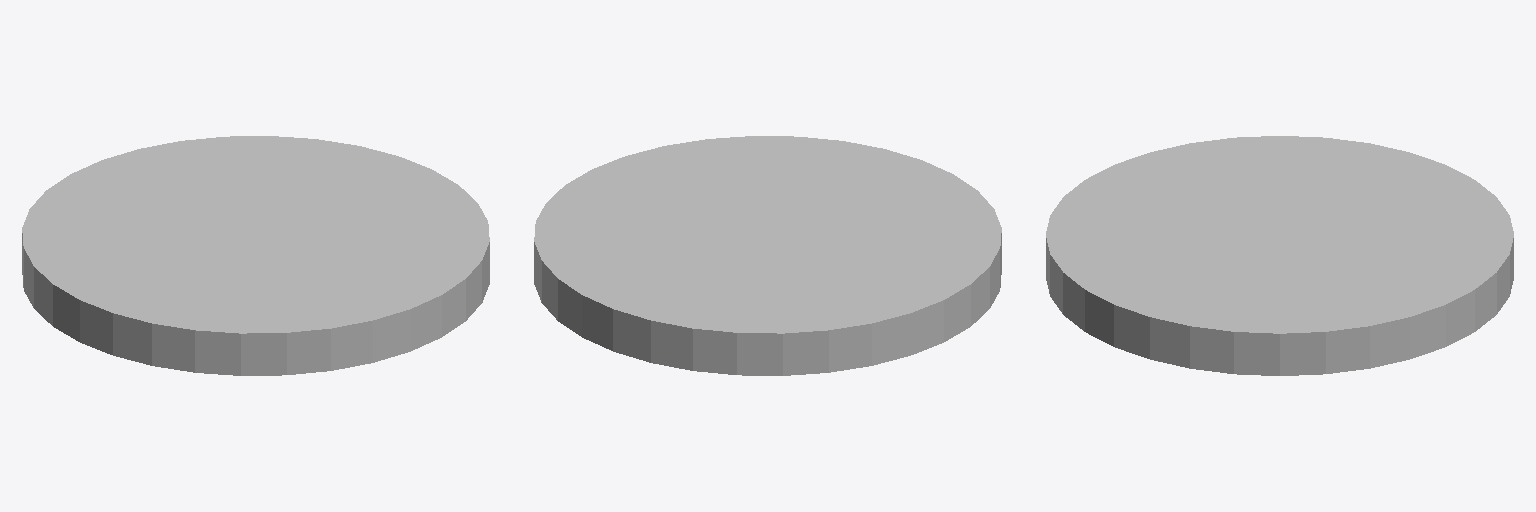
File: stage5.obj
3 views of the same model, side by side, from view 1: azimuth 30°, elevation 25°; view 2: azimuth 150°, elevation 25°; view 3: azimuth 270°, elevation 25° (orthographic).
Parts seen in each view (by area): view 1: 5; view 2: 5; view 3: 5.
Boxes of the visible parts, x1,y1,x2,y2 form: 5: [22, 136, 489, 375]; 5: [534, 136, 1001, 375]; 5: [1046, 136, 1513, 375].
Size of the model in its own units: 5 by 0.5 by 5.